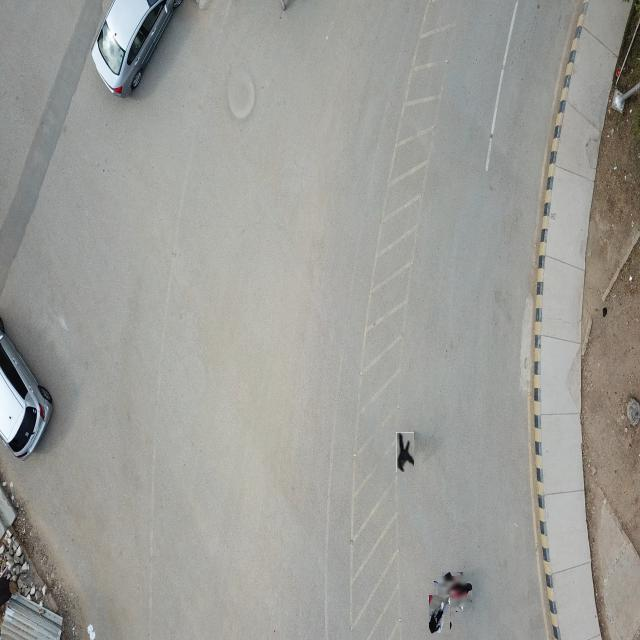Manusia: (438, 576, 468, 608), (429, 595, 451, 635), (396, 432, 415, 473)
